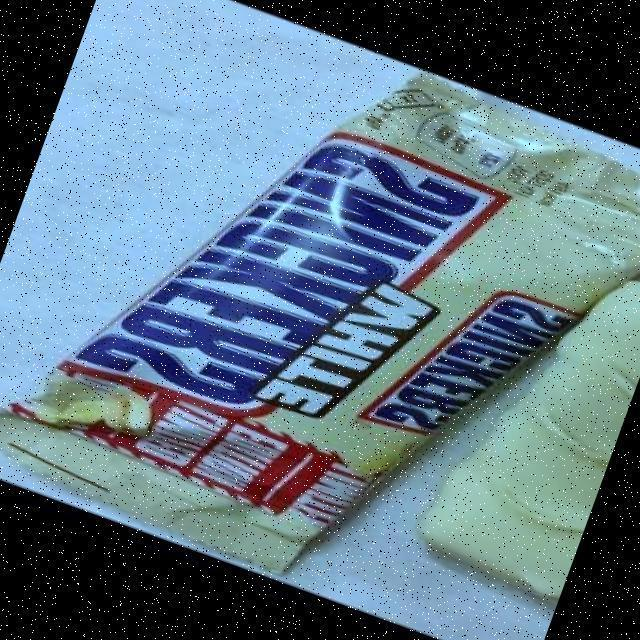Dry Waste: (162, 153, 513, 460), (2, 340, 380, 573), (513, 129, 640, 366), (318, 55, 522, 153)
